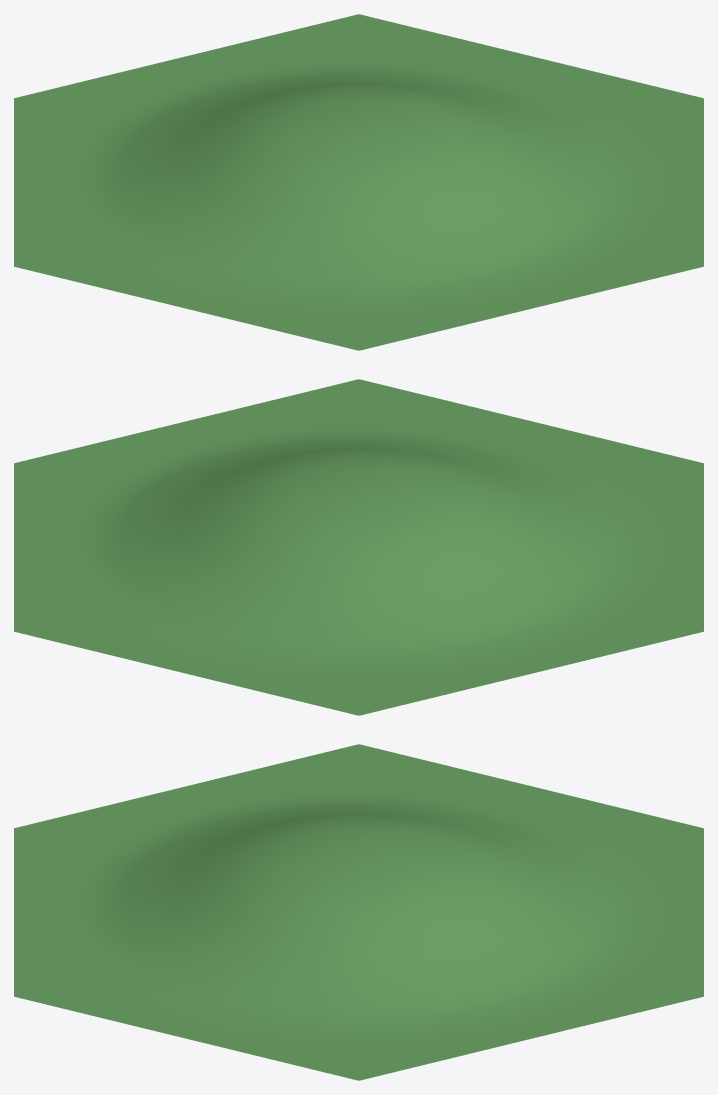
The model's file is t_smallbill.fbx.
3 renders of one model, top to bottom at view 1: azimuth 30°, elevation 25°; view 2: azimuth 150°, elevation 25°; view 3: azimuth 270°, elevation 25°, orthographic.
Visible parts, largest first — view 1: t_smallbill; view 2: t_smallbill; view 3: t_smallbill.
Boxes of the visible parts, bbox=[...] form: t_smallbill: bbox=[14, 14, 703, 350]; t_smallbill: bbox=[14, 379, 703, 715]; t_smallbill: bbox=[14, 744, 703, 1080].
Bounding box in the file's own units: 20002 × 1595 × 17322.
